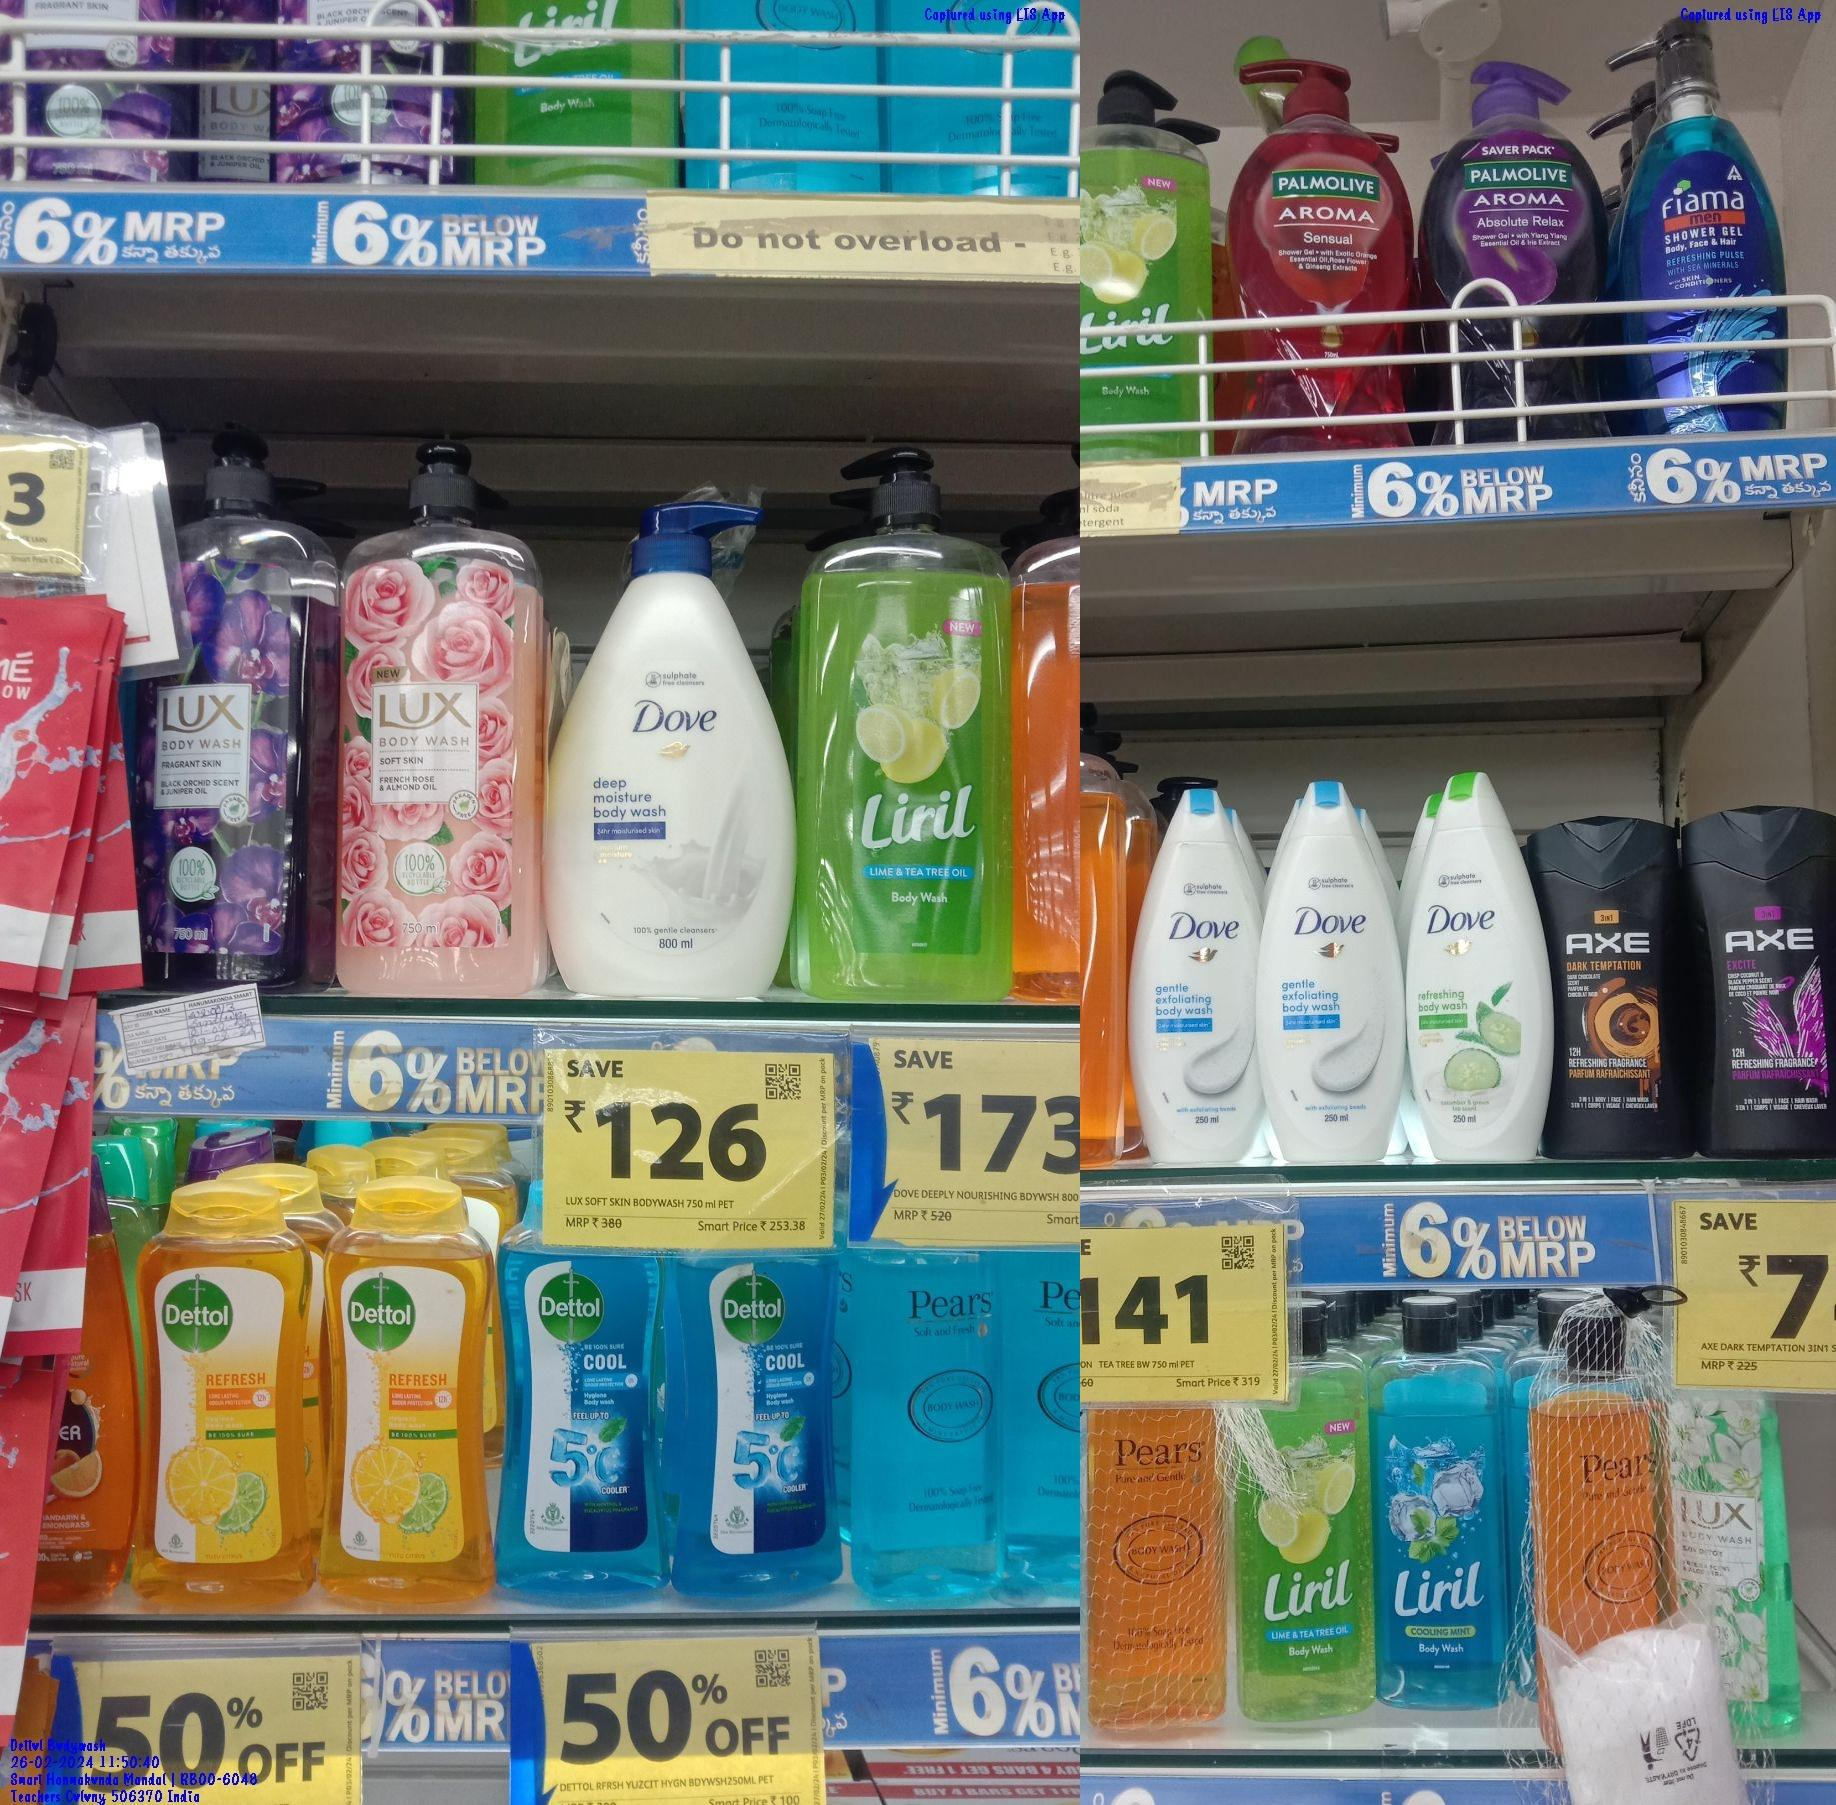Dettol_Bodywash_Cool: (502, 1241, 671, 1605), (673, 1258, 843, 1605)
Dettol_Bodywash_Refresh: (319, 1172, 492, 1613), (134, 1179, 311, 1612)
Dove_Gentle_Exfoliating_Body_Wash_250ML: (1264, 780, 1406, 1167), (1129, 788, 1264, 1172)
Dove_Refreshing_Body_Wash_250ML: (1411, 764, 1553, 1164)
